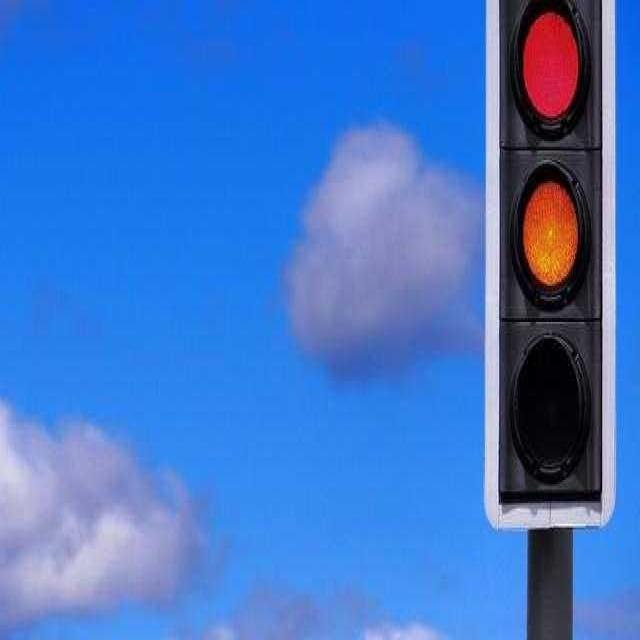Traffic Light -Red-: (495, 0, 616, 142)
Traffic Light -Yellow-: (476, 10, 630, 518), (495, 150, 612, 316)
